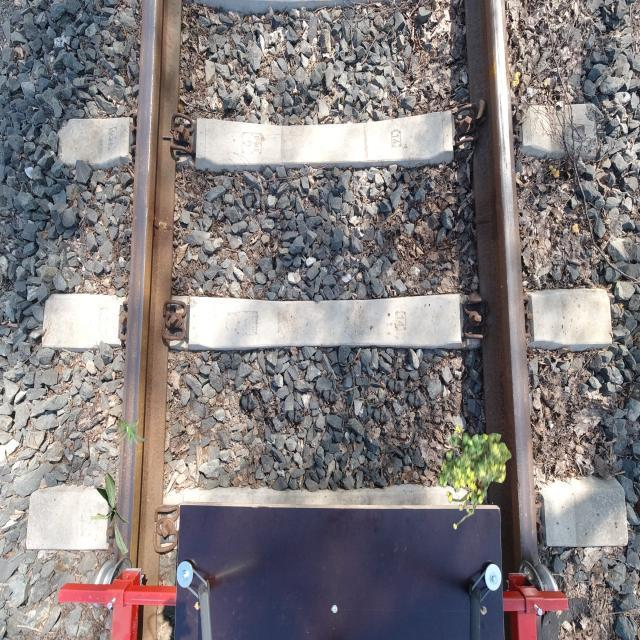Plant: (437, 425, 512, 530), (90, 473, 130, 556), (115, 417, 148, 452)
